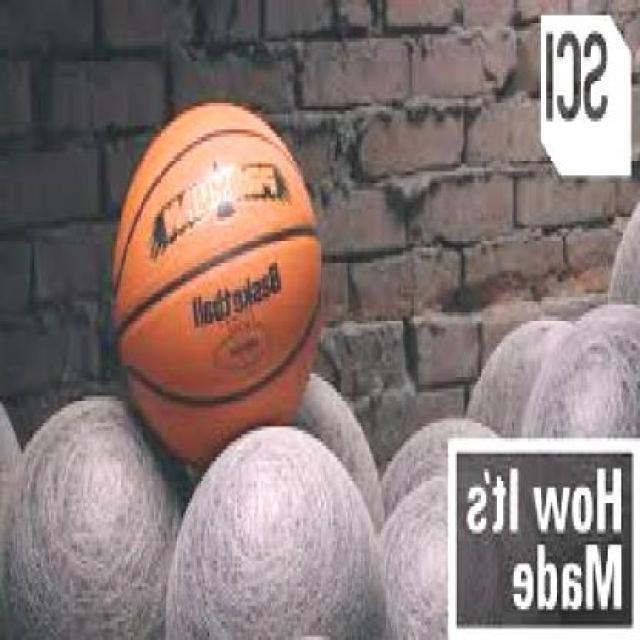Ball: (112, 105, 322, 431)
